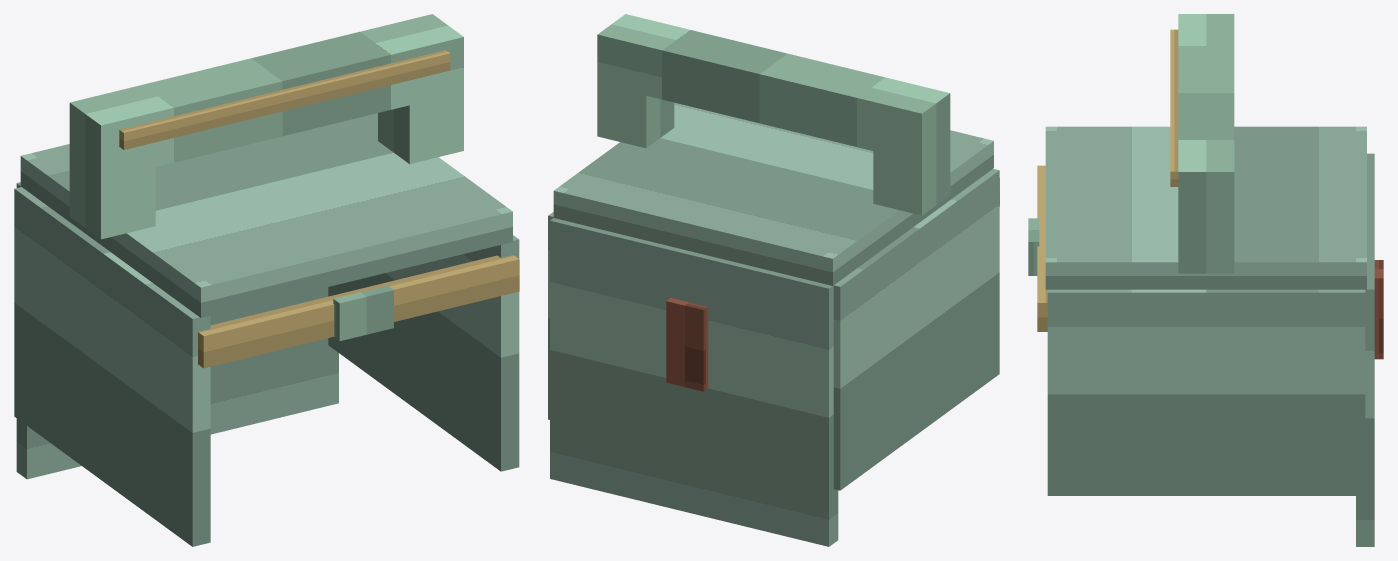
Rendered from zhuji_yuheng_yizhuang_helmet.obj.
The picture shows the model from 3 angles, left to right: view 1: azimuth 30°, elevation 25°; view 2: azimuth 150°, elevation 25°; view 3: azimuth 270°, elevation 25°; orthographic projection. The views are drawn at different scales.
Visible parts, largest first — view 1: cap_top, cap_side_-1, yuheng_bridge, cap_side_1, cap_back, cap_brow, yuheng_bridge_line, yuheng_brow_jade; view 2: cap_back, cap_top, cap_side_-1, yuheng_bridge, yuheng_cap_back; view 3: cap_side_1, cap_top, yuheng_bridge, cap_back, cap_brow, yuheng_bridge_line, yuheng_cap_back, yuheng_brow_jade.
Part boxes in pixels (box(x1,y1,x2,y2)): cap_top: box(20, 113, 512, 317); cap_side_-1: box(14, 187, 210, 546); yuheng_bridge: box(69, 14, 463, 239); cap_side_1: box(328, 235, 519, 471); cap_back: box(16, 182, 338, 479); cap_brow: box(198, 255, 519, 368); yuheng_bridge_line: box(119, 50, 450, 149); yuheng_brow_jade: box(333, 285, 393, 341); cap_back: box(550, 218, 838, 546); cap_top: box(553, 102, 993, 285); cap_side_-1: box(833, 169, 999, 490); yuheng_bridge: box(597, 14, 950, 215); yuheng_cap_back: box(666, 298, 708, 391); cap_side_1: box(1047, 289, 1365, 495); cap_top: box(1045, 126, 1366, 289); yuheng_bridge: box(1178, 14, 1234, 273); cap_back: box(1356, 153, 1374, 546); cap_brow: box(1037, 165, 1047, 331); yuheng_bridge_line: box(1170, 29, 1178, 186); yuheng_cap_back: box(1374, 260, 1383, 359); yuheng_brow_jade: box(1028, 218, 1039, 275).
Size of the model in its own units: 0.625 by 0.7125 by 0.5947.
